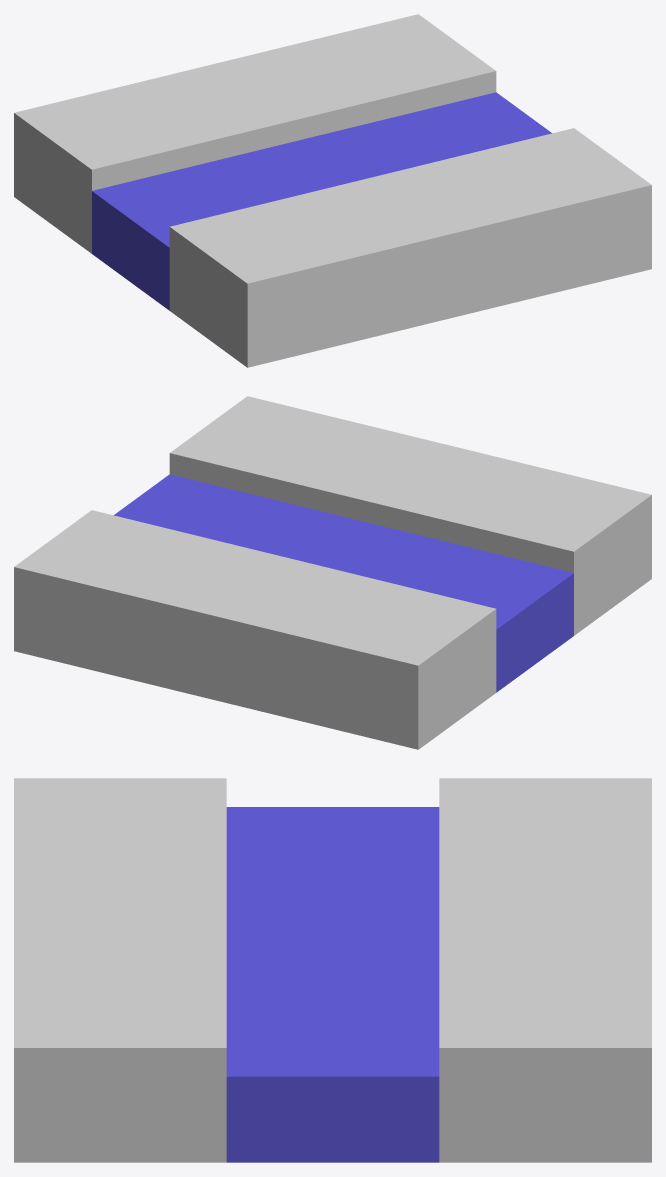
The model's file is RiverLine.fbx.
3 renders of one model, top to bottom at view 1: azimuth 30°, elevation 25°; view 2: azimuth 150°, elevation 25°; view 3: azimuth 270°, elevation 25°, orthographic. The views are drawn at different scales.
Parts seen in each view (by area): view 1: RiverLine; view 2: RiverLine; view 3: RiverLine.
Part boxes in pixels (left/top/right/bottom): RiverLine: left=14, top=14, right=651, bottom=367; RiverLine: left=14, top=396, right=651, bottom=749; RiverLine: left=14, top=778, right=651, bottom=1162.
Size of the model in its own units: 200 by 200 by 39.76.
